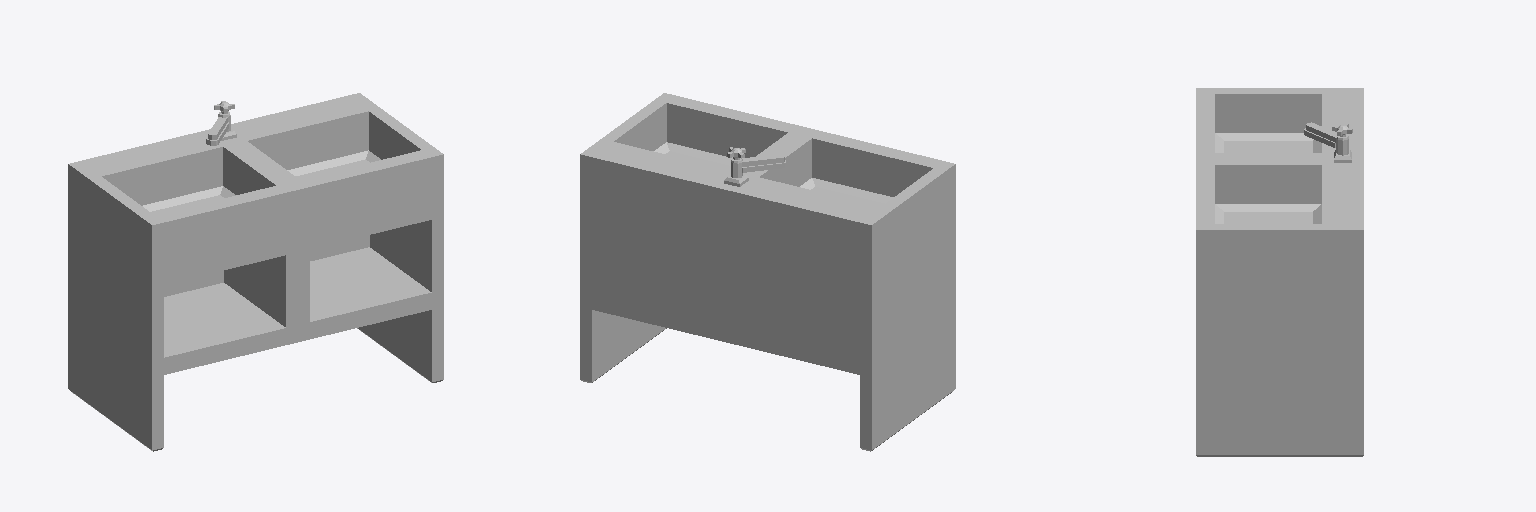
Rendered from Sink.obj.
3 views of the same model, side by side, from view 1: azimuth 30°, elevation 25°; view 2: azimuth 150°, elevation 25°; view 3: azimuth 270°, elevation 25° (orthographic).
Bounding box in the file's own units: 200 × 171 × 100.